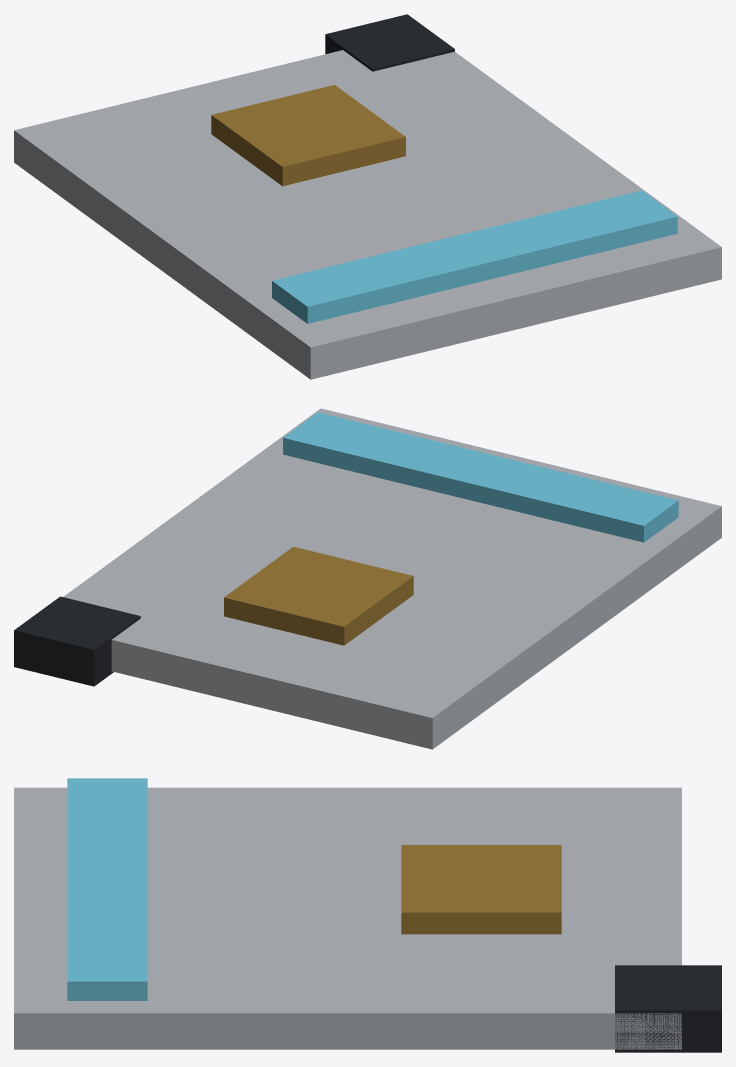
Rendered from datacard.lod.glb.
3 views of the same model, one above another, from view 1: azimuth 30°, elevation 25°; view 2: azimuth 150°, elevation 25°; view 3: azimuth 270°, elevation 25° (orthographic). The views are drawn at different scales.
Visible parts, largest first — view 1: m; view 2: m; view 3: m.
Boxes of the visible parts, x1,y1,x2,y2 form: m: [14, 14, 721, 379]; m: [14, 408, 721, 749]; m: [14, 778, 721, 1052].
Bounding box in the file's own units: 0.0377 × 0.00476 × 0.05.
